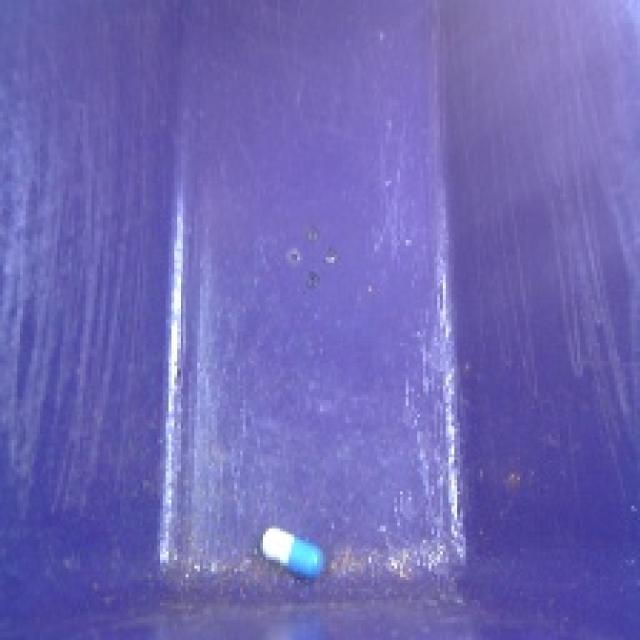small: (256, 514, 330, 588)
